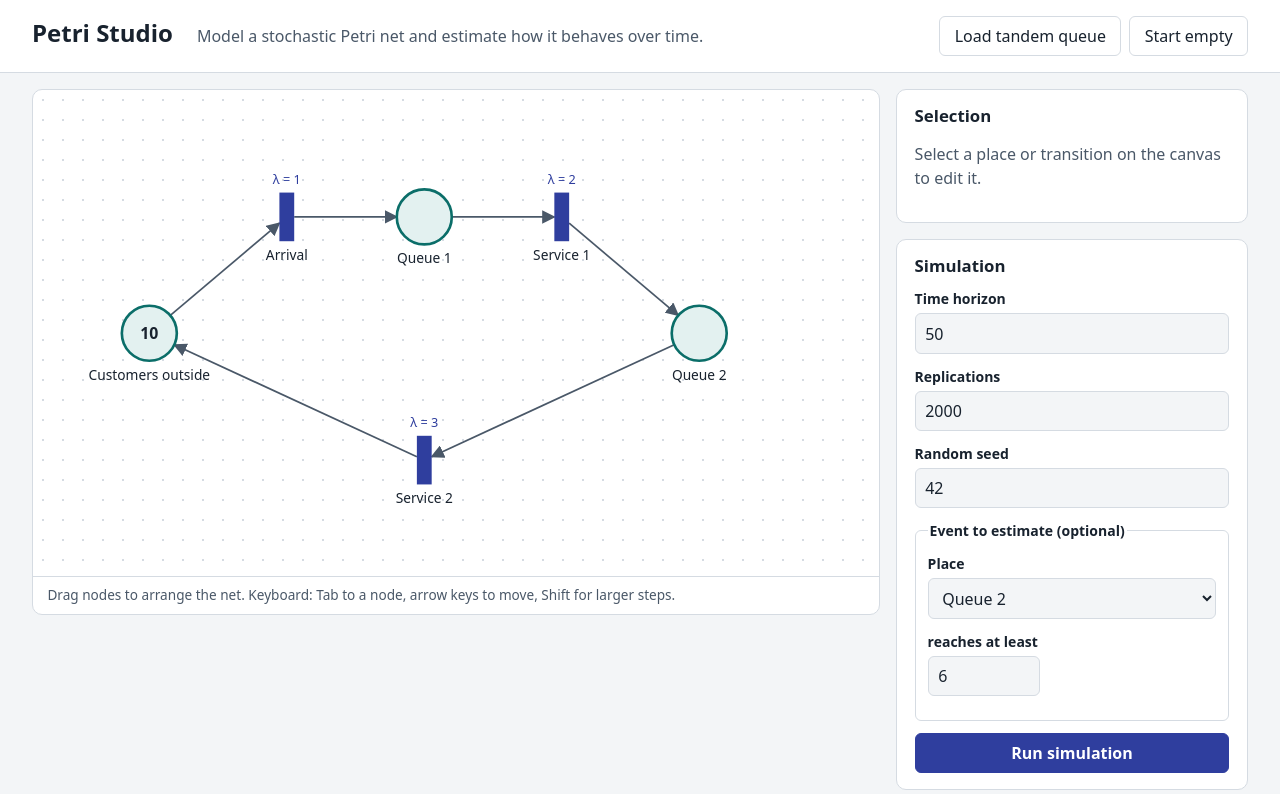
Scenario: App › disables the run button while the net has problems
Click the button "Start empty".
click(1189, 36)  # box [1129,16,1248,56]
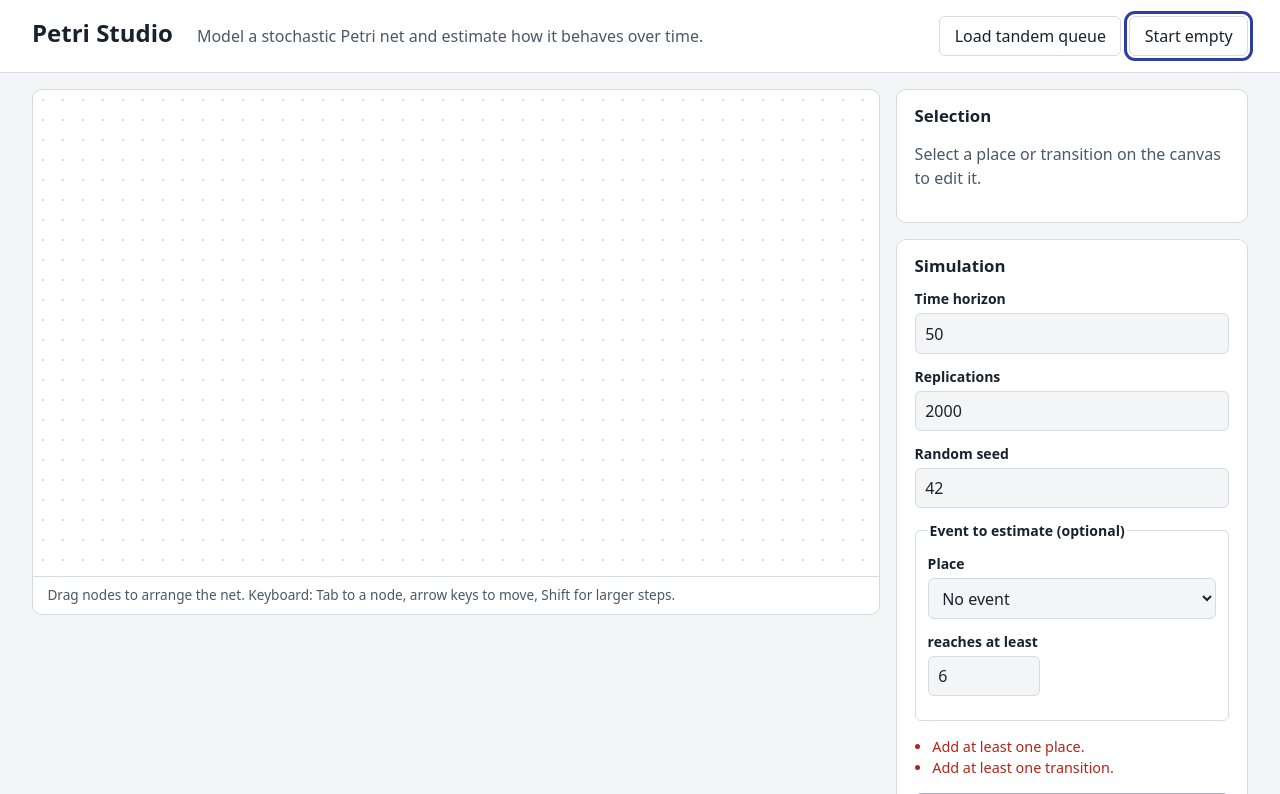
Result: the list item "Add at least one place." is shown at [932,737,1085,756]
